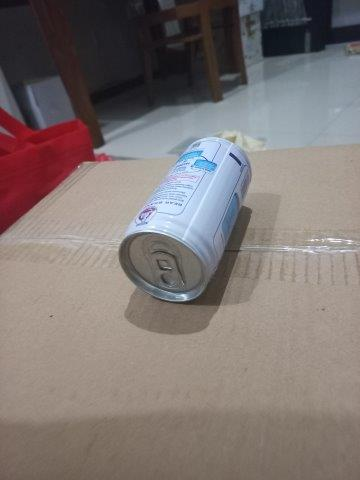kaleng: (118, 136, 253, 299)
kardus: (2, 143, 360, 480)
